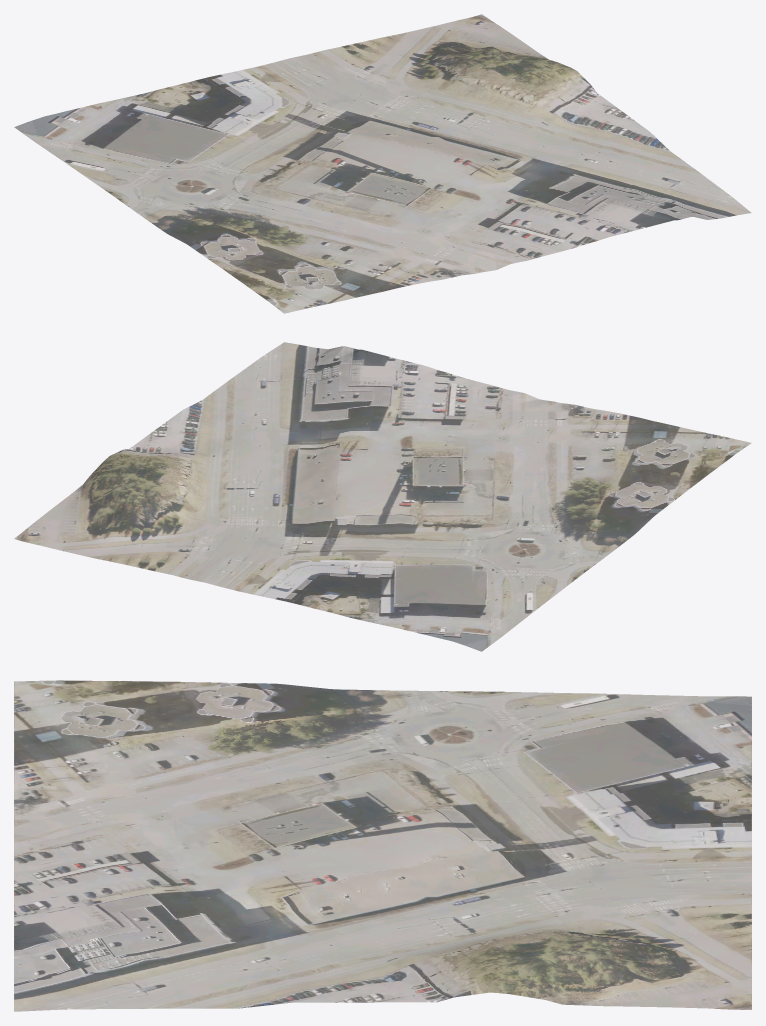
The model's file is CM_Terrain_24492097_6815288.fbx.
3 renders of one model, top to bottom at view 1: azimuth 30°, elevation 25°; view 2: azimuth 150°, elevation 25°; view 3: azimuth 270°, elevation 25°, orthographic. The views are drawn at different scales.
Visible parts, largest first — view 1: CM_Terrain_24492097_6815288_LOD0; view 2: CM_Terrain_24492097_6815288_LOD0; view 3: CM_Terrain_24492097_6815288_LOD0.
Part boxes in pixels (bbox=[...]): CM_Terrain_24492097_6815288_LOD0: bbox=[14, 14, 751, 313]; CM_Terrain_24492097_6815288_LOD0: bbox=[14, 342, 751, 651]; CM_Terrain_24492097_6815288_LOD0: bbox=[14, 680, 751, 1011].
Size of what is drawn, in the model's own units: 205 by 8.34 by 205.
